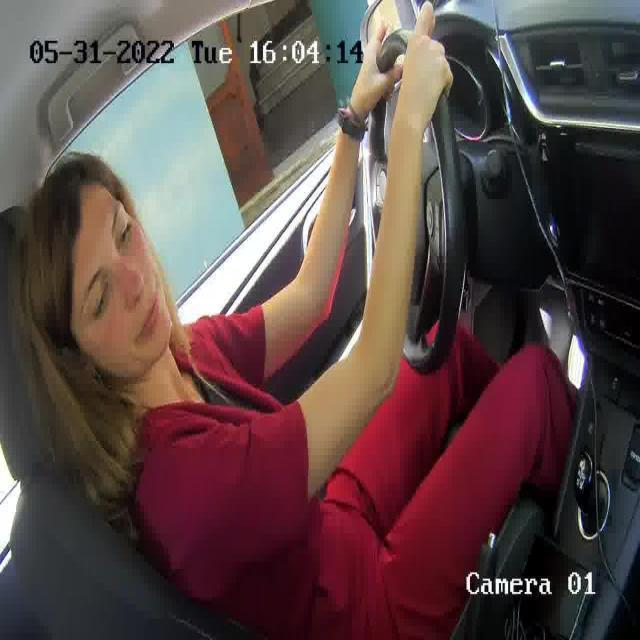Eye-Open: (90, 289, 114, 322), (115, 215, 138, 247)
Inattentive: (18, 150, 168, 383)
Normal: (134, 296, 164, 346)
